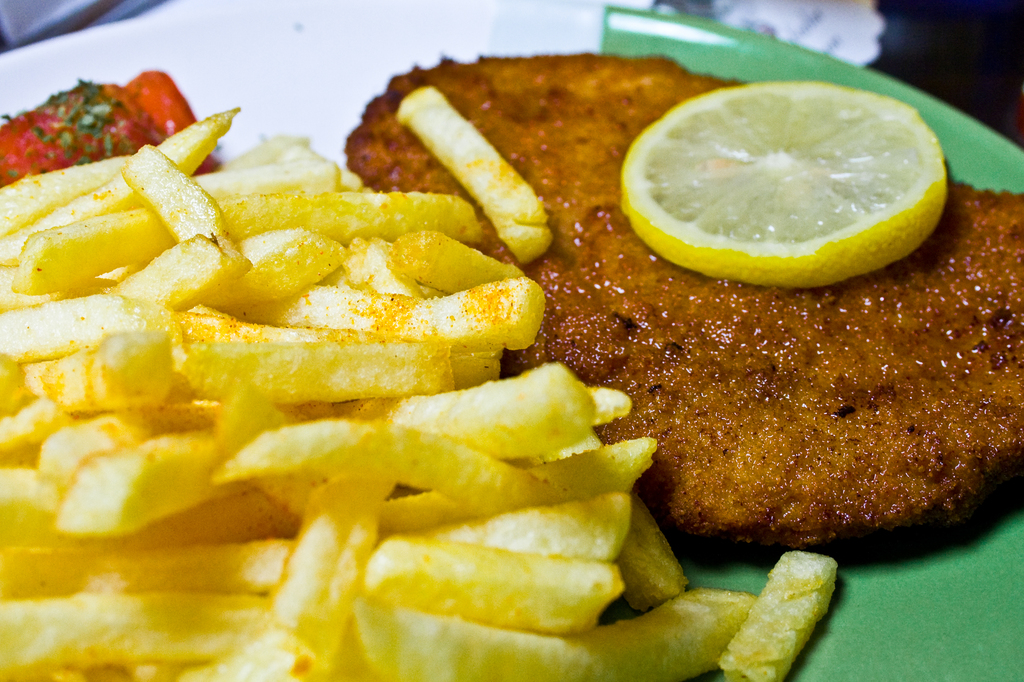French fries: (46, 120, 721, 667)
